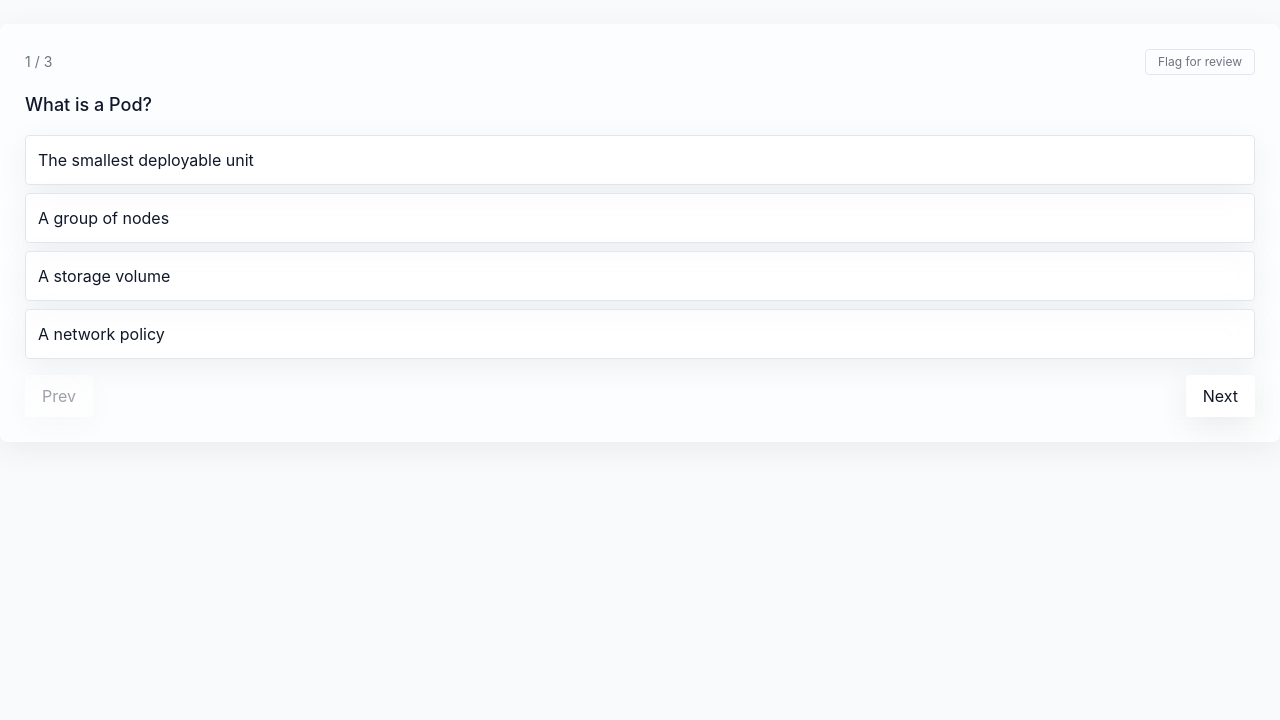
Test case: QuizBlock Phase 3 scaffolds › quiz_per_question_feedback_correct — picking the right answer shows correct + explanation immediately
Click the button "The smallest deployable unit".
click(146, 160)  # box left=25, top=135, right=1255, bottom=185
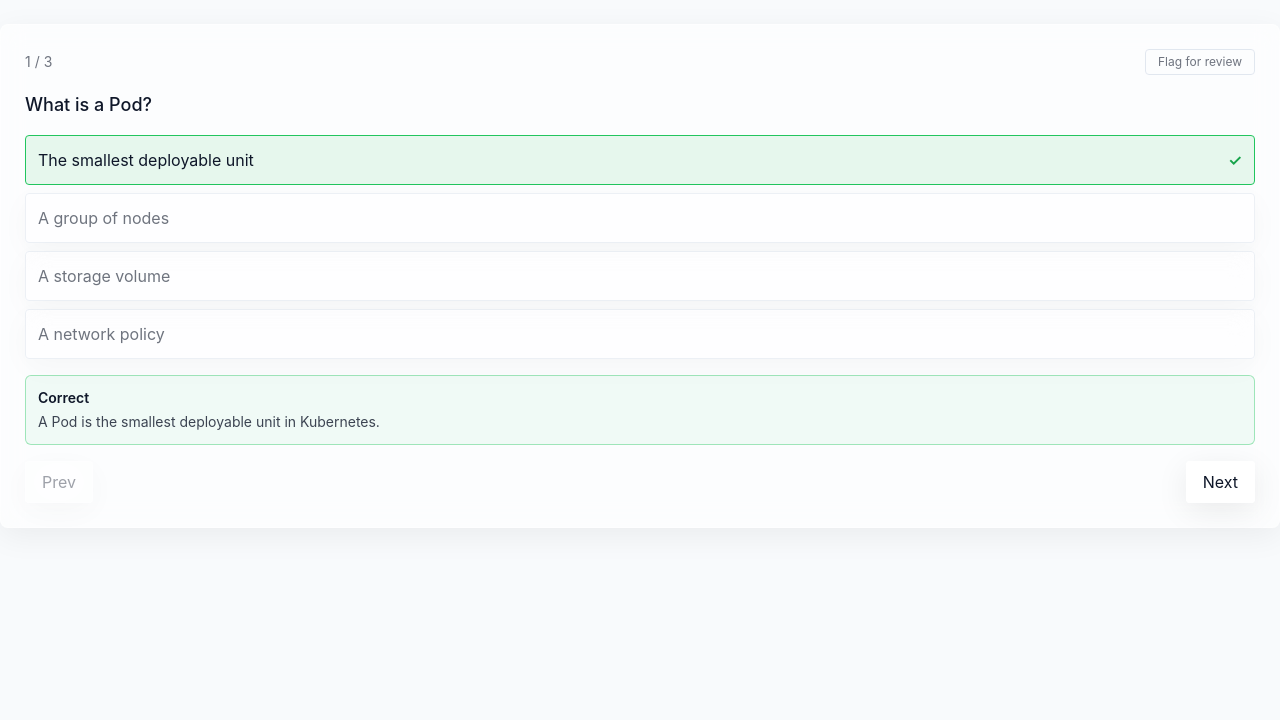
Now the element with test id "answer-feedback" is shown, box left=25, top=375, right=1255, bottom=445
Now the element with test id "answer-feedback" shows "Correct", box left=38, top=389, right=89, bottom=406
Now the element with test id "answer-feedback" shows "A Pod is the smallest deployable unit in Kubernetes.", box left=38, top=413, right=380, bottom=430
